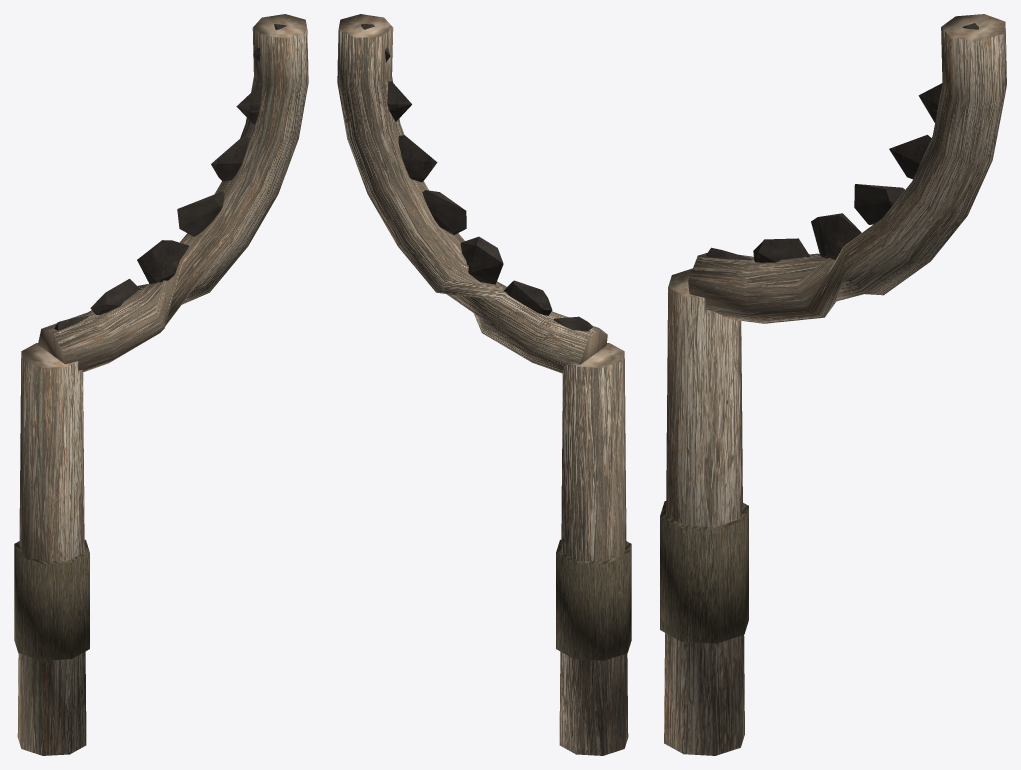
Rendered from SM_Item_sickle.gltf.
The picture shows the model from 3 angles, left to right: view 1: azimuth 30°, elevation 25°; view 2: azimuth 150°, elevation 25°; view 3: azimuth 330°, elevation 25°; orthographic projection. The views are drawn at different scales.
Visible parts, largest first — view 1: SM_Item_sickle; view 2: SM_Item_sickle; view 3: SM_Item_sickle.
Part boxes in pixels (x1=…): SM_Item_sickle: x1=14, y1=14, x2=308, y2=755; SM_Item_sickle: x1=337, y1=14, x2=631, y2=755; SM_Item_sickle: x1=660, y1=14, x2=1006, y2=755.
Size of the model in its own units: 0.1874 by 0.4103 by 0.044.
3 materials, 3 textured.
